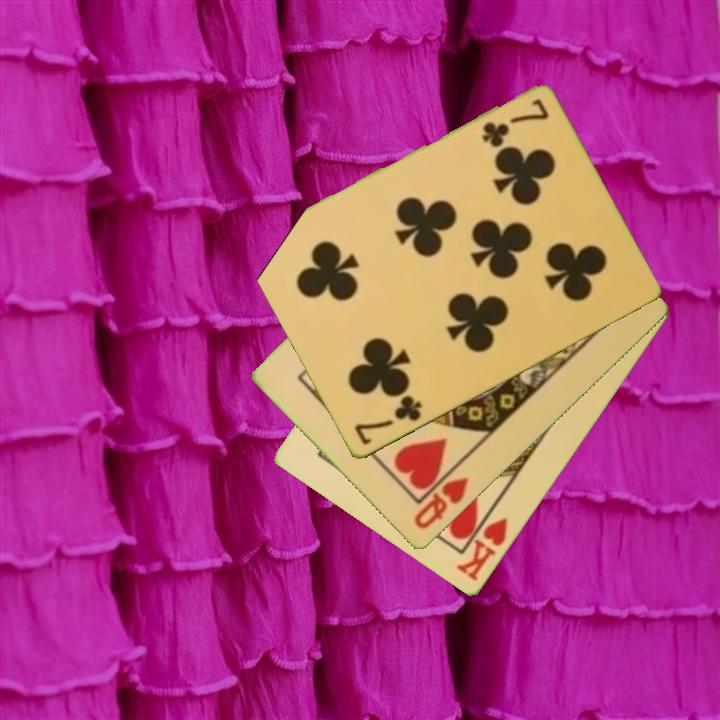7c: (350, 392, 425, 448), (478, 95, 551, 150)
Kh: (453, 502, 511, 585)
Qh: (410, 462, 472, 533)
